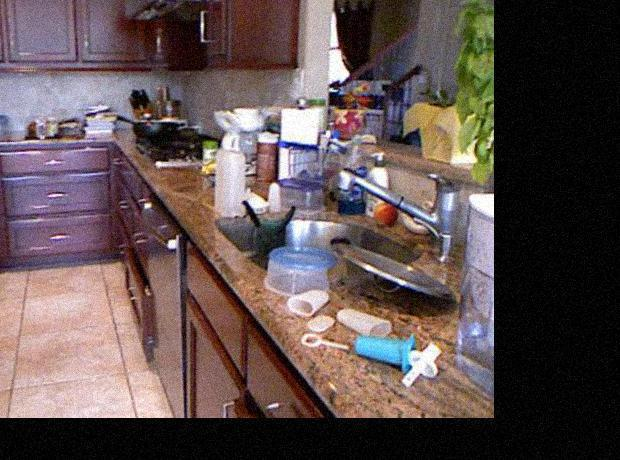Lavaplatos: (216, 157, 473, 309)
